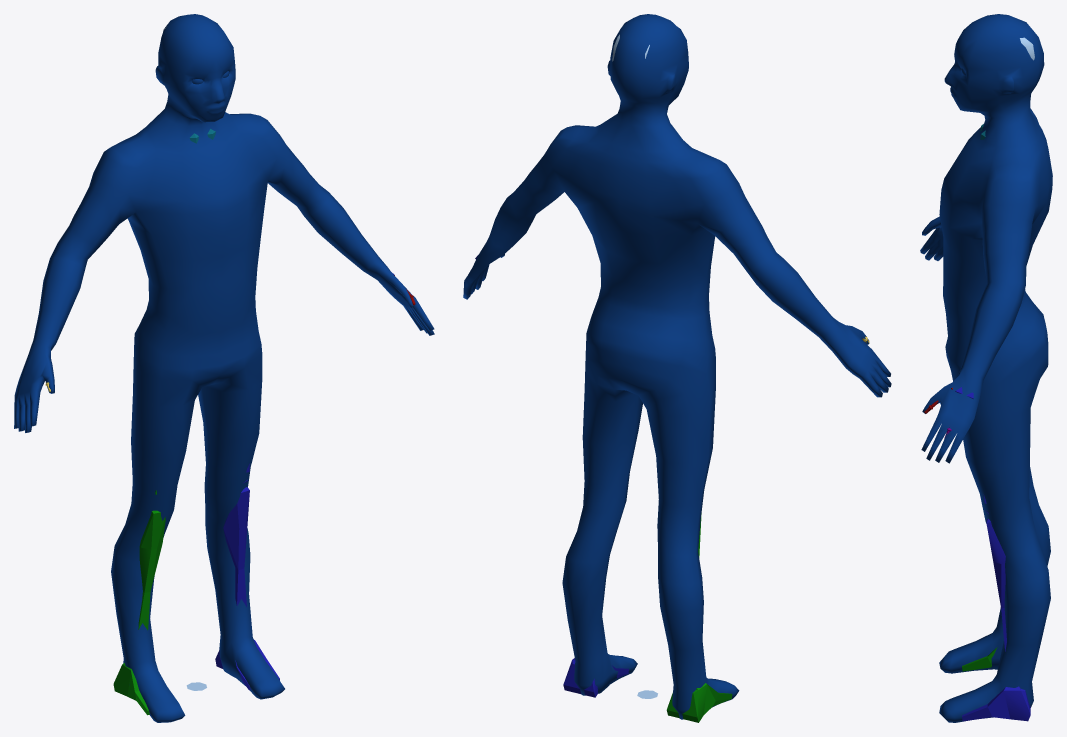
Rendered from BrokenBoi.obj.
3 views of the same model, side by side, from view 1: azimuth 30°, elevation 25°; view 2: azimuth 150°, elevation 25°; view 3: azimuth 270°, elevation 25° (orthographic).
Visible parts, largest first — view 1: Body, Bip001_L_Calf, Bip001_R_Calf, Bip001_R_Foot; view 2: Body, Bip001_R_Foot; view 3: Body, Bip001_L_Foot, Bip001_L_Calf, Bip001_R_Foot.
Boxes of the visible parts, left/top/right/bottom form: Body: left=14, top=14, right=434, bottom=722; Bip001_L_Calf: left=223, top=479, right=249, bottom=606; Bip001_R_Calf: left=138, top=510, right=165, bottom=630; Bip001_R_Foot: left=113, top=663, right=149, bottom=715; Body: left=463, top=14, right=891, bottom=719; Bip001_R_Foot: left=666, top=683, right=732, bottom=722; Body: left=920, top=14, right=1052, bottom=722; Bip001_L_Foot: left=962, top=686, right=1030, bottom=721; Bip001_L_Calf: left=985, top=510, right=1006, bottom=651; Bip001_R_Foot: left=962, top=647, right=997, bottom=671.
Bounding box in the file's own units: 116 × 181 × 32.14.
